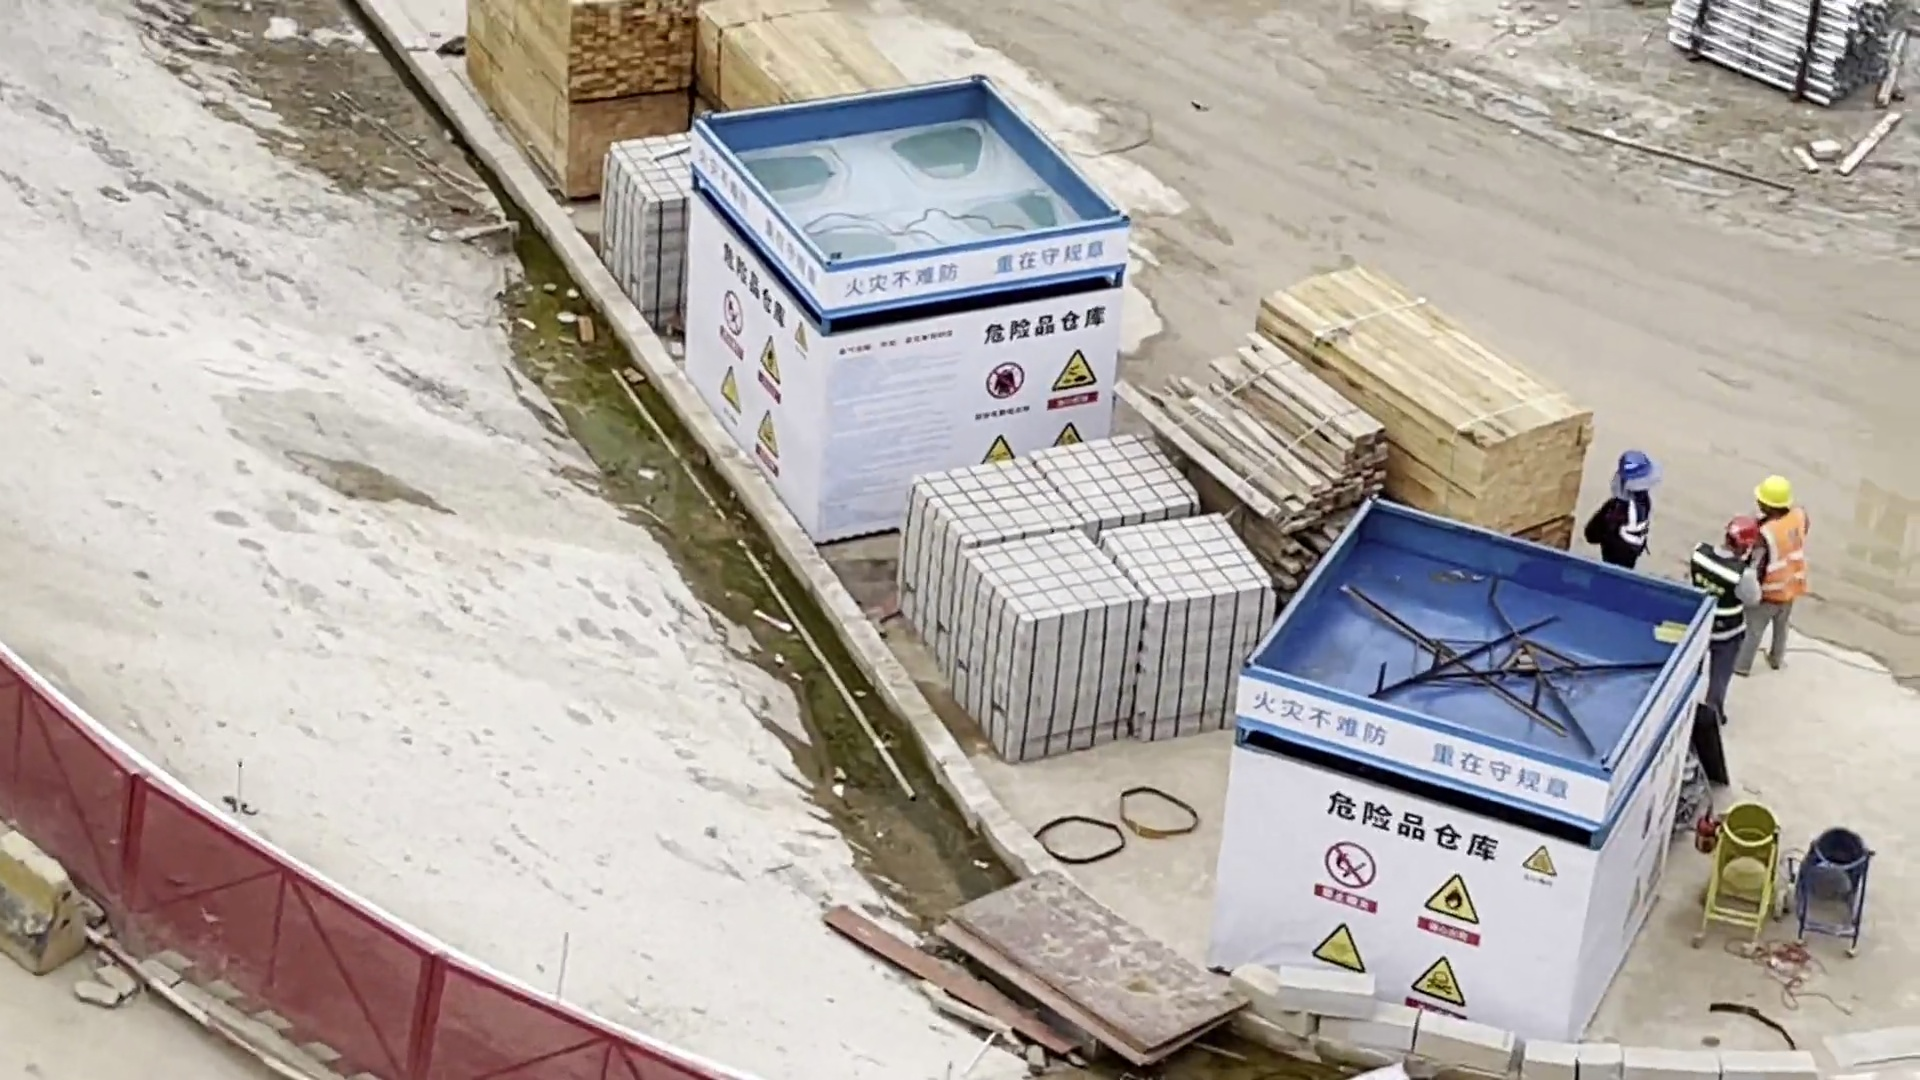brick: (891, 427, 1272, 768), (598, 124, 715, 337)
fence: (1, 620, 773, 1080)
helmet: (1606, 442, 1665, 499), (1747, 466, 1800, 519), (1724, 501, 1773, 554)
person: (1683, 501, 1763, 745), (1735, 454, 1821, 681), (1586, 434, 1667, 587)
scaffold: (1665, 3, 1920, 117)
slogan: (1215, 659, 1614, 1050), (787, 214, 1168, 530), (669, 126, 818, 537), (1595, 603, 1730, 996)
vest: (1676, 534, 1760, 649), (1741, 500, 1818, 614), (1591, 478, 1667, 559)
wood: (1145, 243, 1631, 577), (433, 1, 940, 157)
